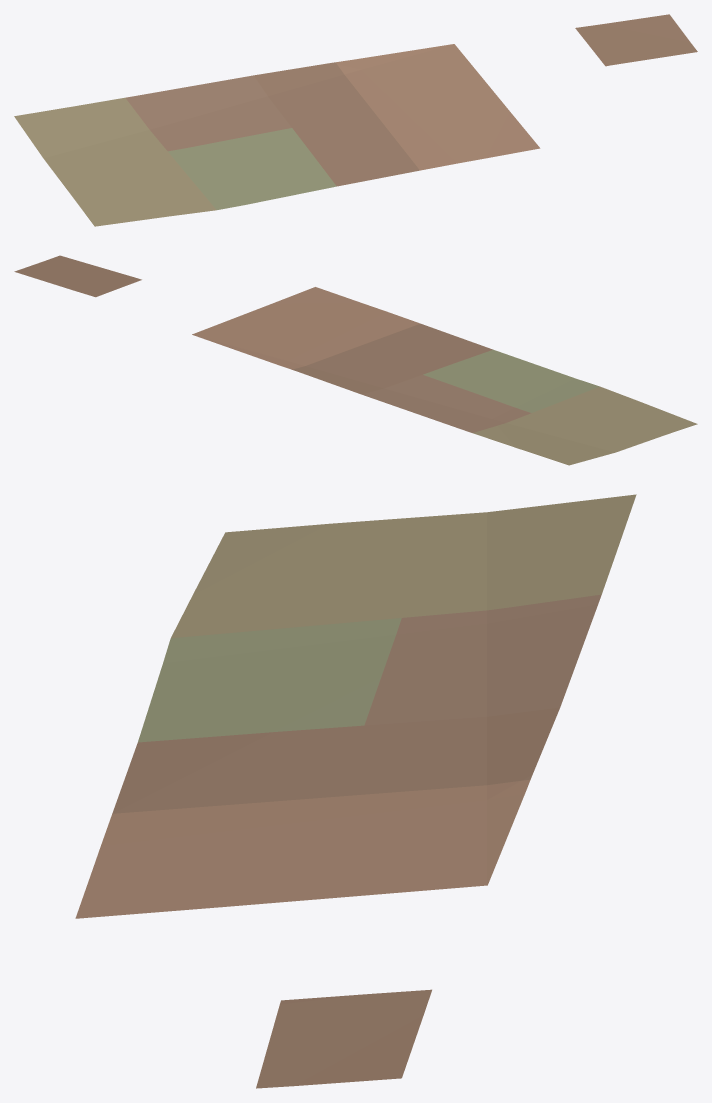
File: farm_4_33_soil.glb
3 views of the same model, one above another, from view 1: azimuth 30°, elevation 25°; view 2: azimuth 150°, elevation 25°; view 3: azimuth 270°, elevation 25° (orthographic). The views are drawn at different scales.
Visible parts, largest first — view 1: geometry_0; view 2: geometry_0; view 3: geometry_0.
Part boxes in pixels (x1,y1,x2,y2): geometry_0: (14,14,697,226); geometry_0: (14,255,697,465); geometry_0: (75,494,636,1088).
Bounding box in the file's own units: 251 × 12.11 × 98.54.
